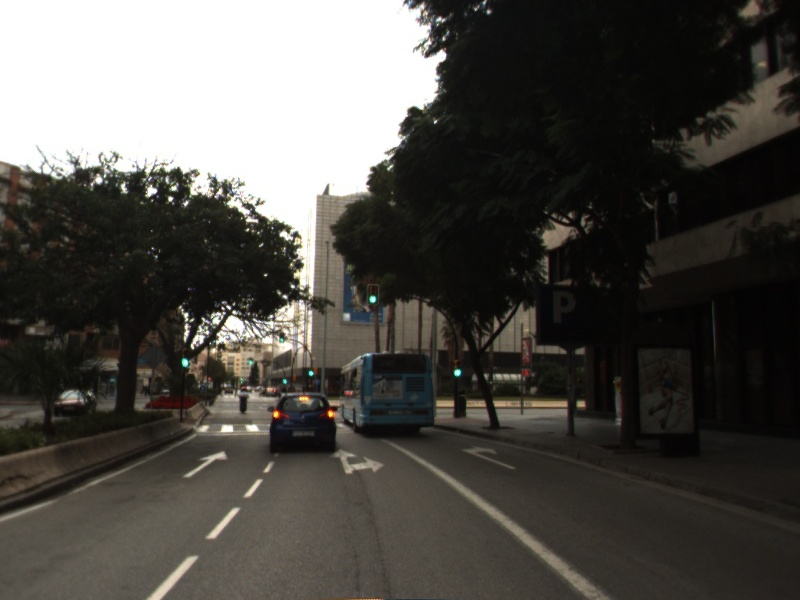RIGHT: (459, 443, 519, 472)
STRAIGHT: (181, 448, 231, 480)
STRAIGHT_RIGHT: (327, 447, 387, 476)
